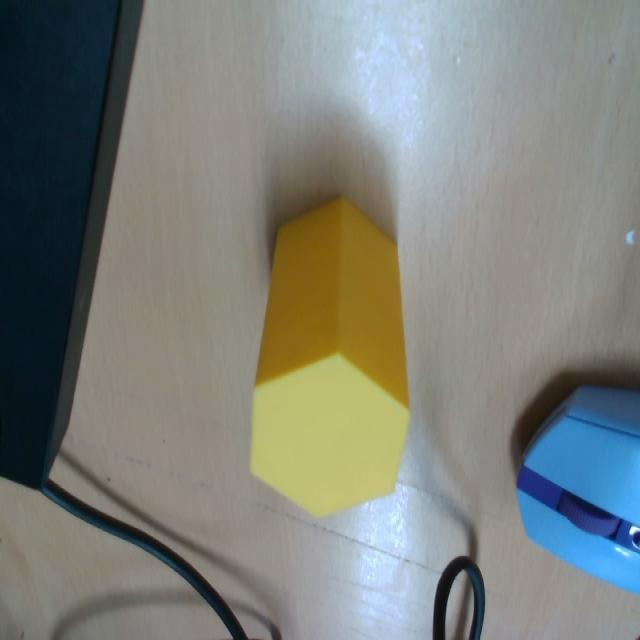hexagon: (252, 197, 409, 515)
